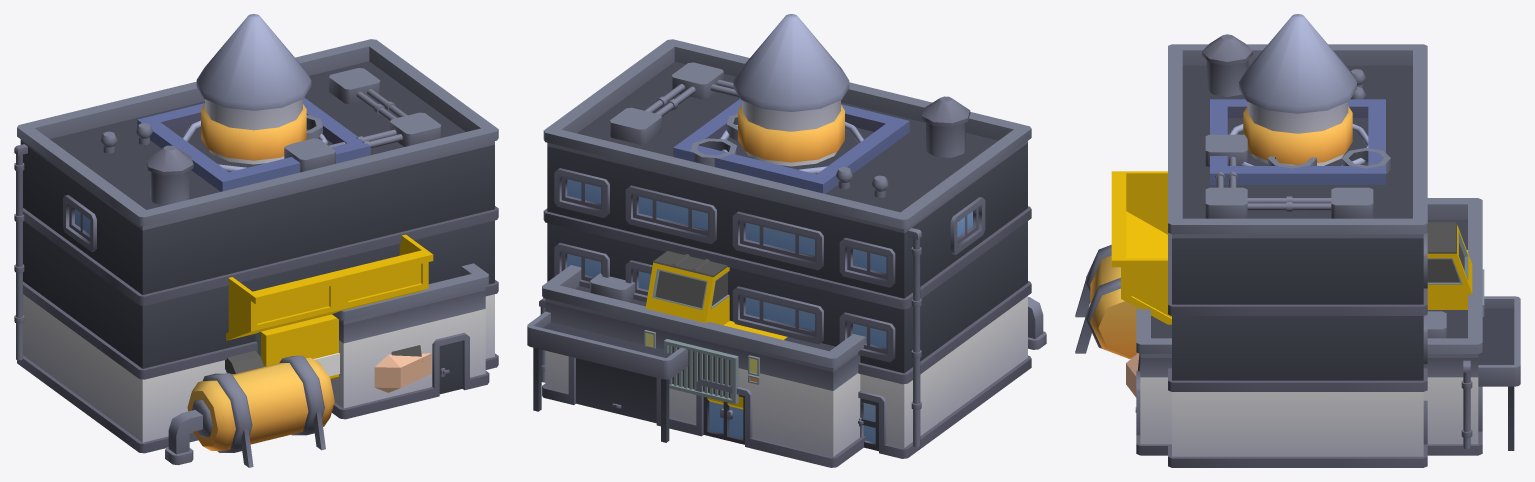
Rendered from mina-abierta.glb.
The picture shows the model from 3 angles, left to right: view 1: azimuth 30°, elevation 25°; view 2: azimuth 150°, elevation 25°; view 3: azimuth 270°, elevation 25°; orthographic projection. The views are drawn at different scales.
Visible parts, largest first — view 1: building-a, building-c, Dumptruck_01_Cube, water-tower, hopper-high-square, rock_largeA; view 2: building-a, building-c, water-tower, Dumptruck_01_Cube, hopper-high-square; view 3: building-a, building-c, water-tower, Dumptruck_01_Cube, hopper-high-square.
Boxes of the visible parts, left/top/right/bottom form: building-a: left=14, top=39, right=498, bottom=453; building-c: left=165, top=115, right=489, bottom=467; Dumptruck_01_Cube: left=225, top=234, right=433, bottom=379; water-tower: left=182, top=14, right=328, bottom=171; hopper-high-square: left=137, top=97, right=370, bottom=191; rock_largeA: left=374, top=353, right=431, bottom=392; building-a: left=543, top=39, right=1031, bottom=458; building-c: left=527, top=114, right=1046, bottom=467; water-tower: left=719, top=14, right=863, bottom=173; Dumptruck_01_Cube: left=644, top=251, right=787, bottom=409; hopper-high-square: left=673, top=98, right=909, bottom=193; building-a: left=1168, top=34, right=1427, bottom=467; building-c: left=1075, top=148, right=1520, bottom=455; water-tower: left=1228, top=14, right=1368, bottom=165; Dumptruck_01_Cube: left=1111, top=171, right=1484, bottom=371; hopper-high-square: left=1210, top=99, right=1385, bottom=184.
Bounding box in the file's own units: 9.92 × 9 × 10.12.
20 materials, 6 textured.
